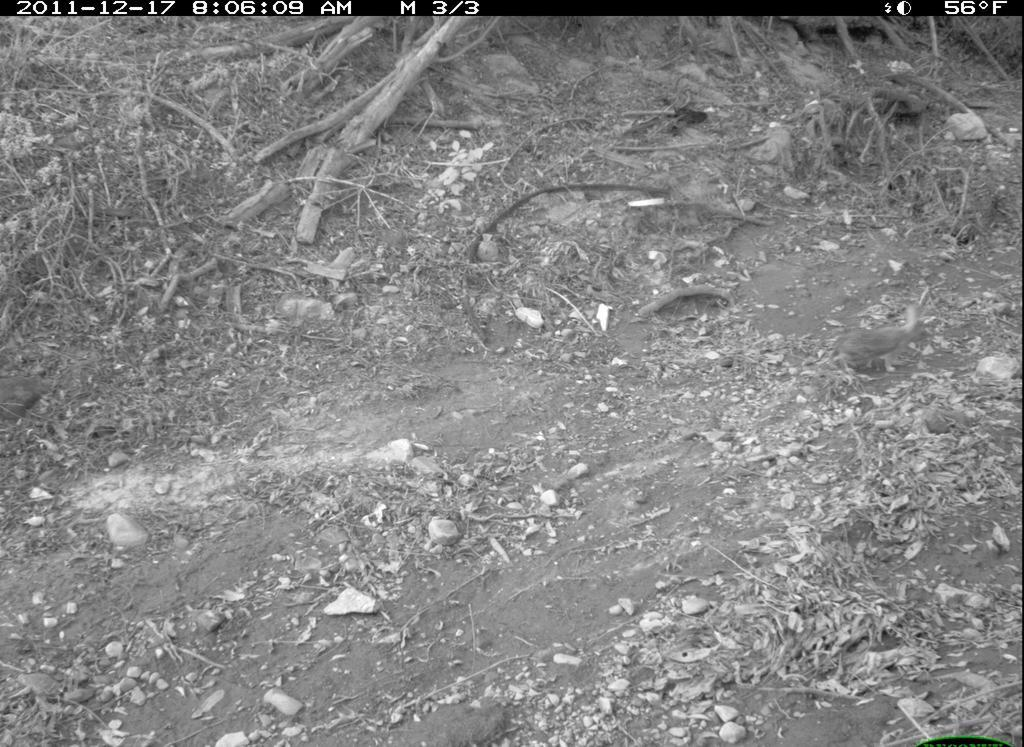rabbit: (824, 300, 936, 379)
